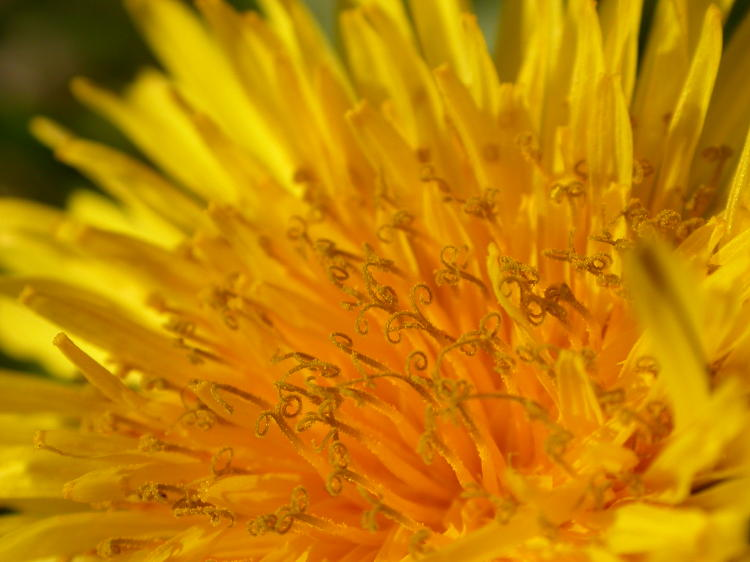dandelion: (29, 6, 750, 554)
